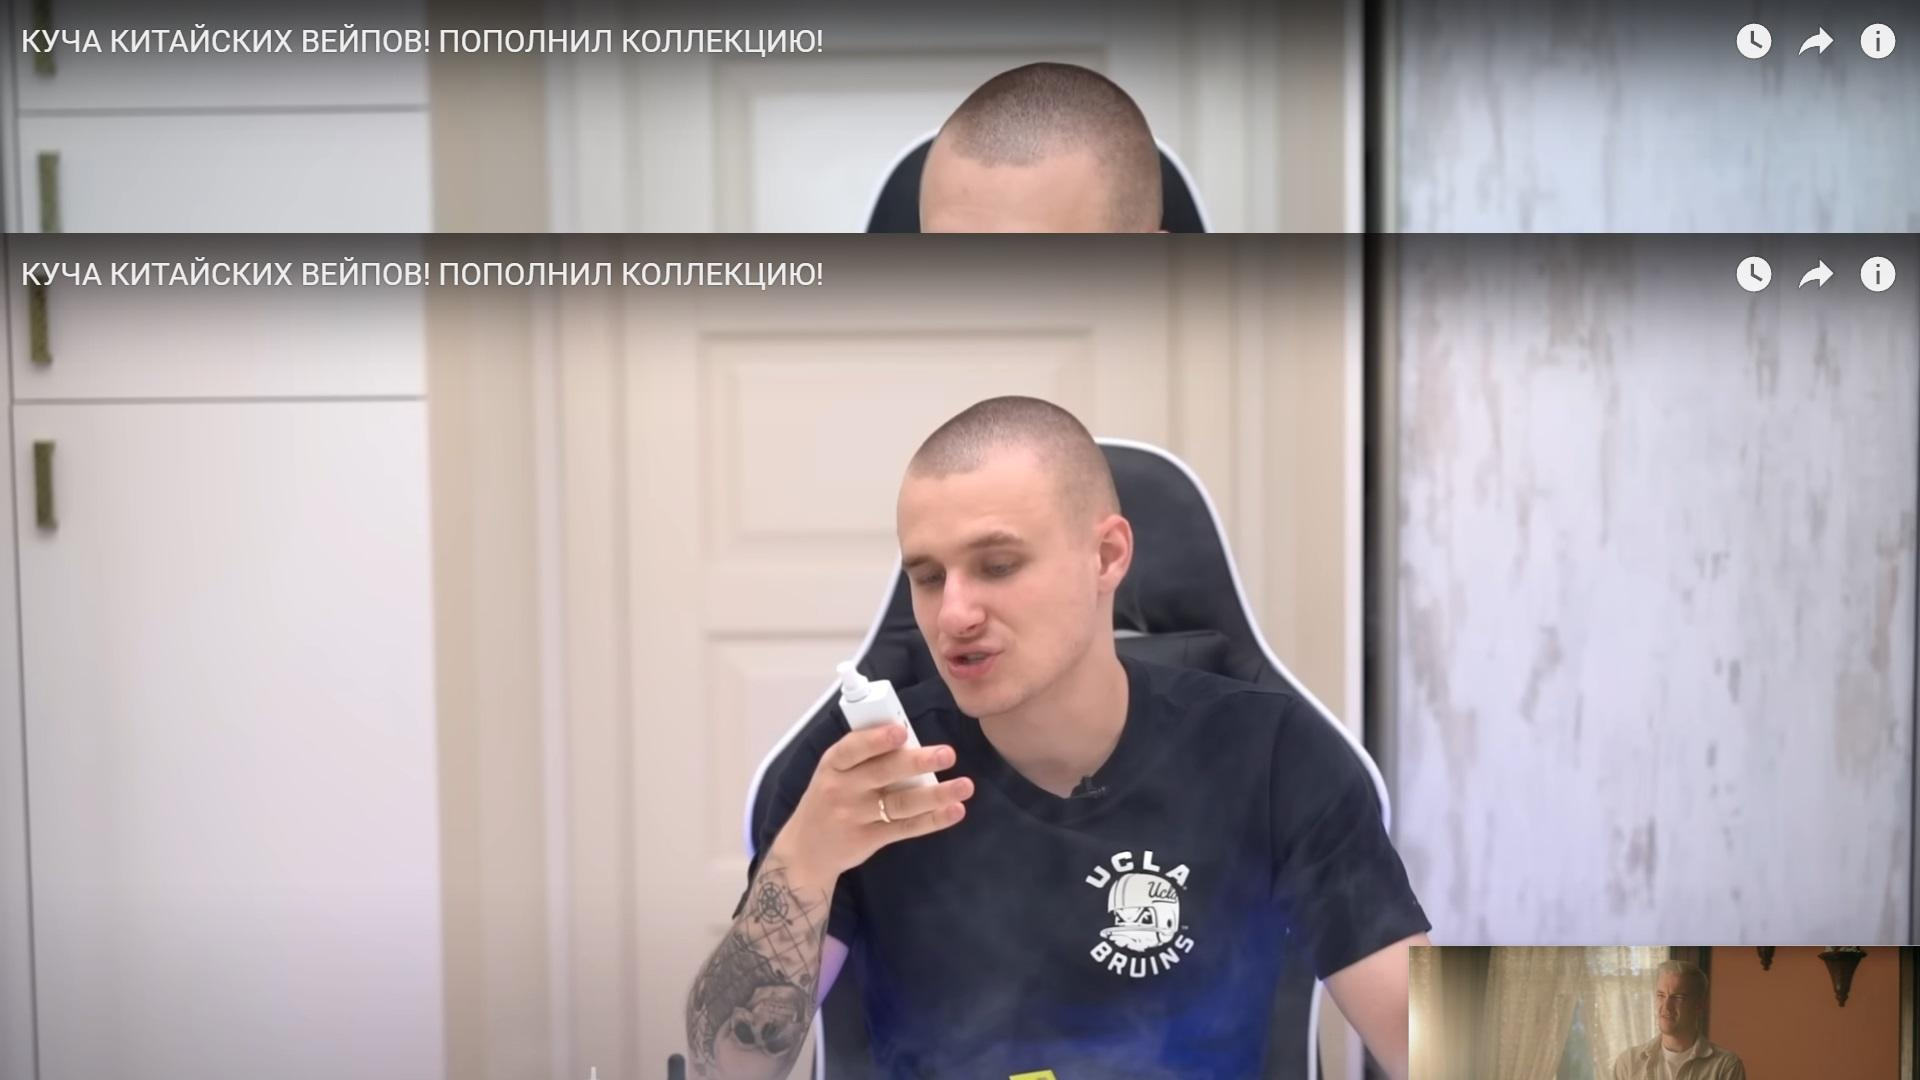Vape: (837, 661, 939, 794)
